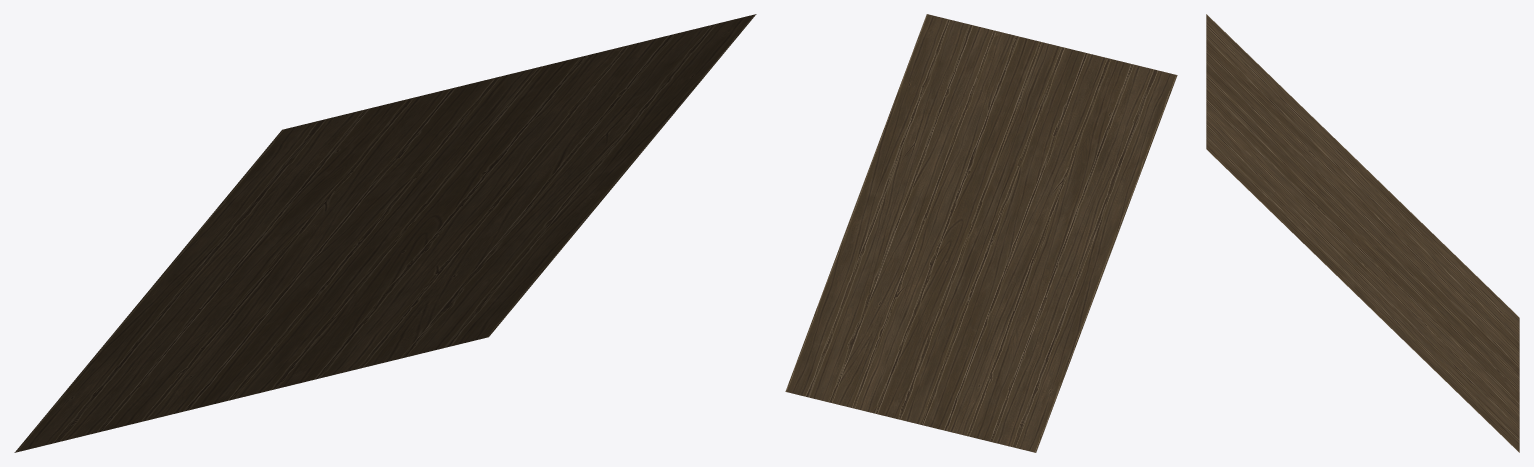
The model's file is SM_CelingPiece_00.fbx.
3 renders of one model, left to right at view 1: azimuth 30°, elevation 25°; view 2: azimuth 150°, elevation 25°; view 3: azimuth 270°, elevation 25°, orthographic. The views are drawn at different scales.
Parts seen in each view (by area): view 1: polySurface3604; view 2: polySurface3604; view 3: polySurface3604.
Boxes of the visible parts, x1,y1,x2,y2 form: polySurface3604: (14,14,756,452); polySurface3604: (785,14,1177,452); polySurface3604: (1206,14,1519,452).
Size of the model in its own units: 440 by 460 by 430.
Materials: 1 (1 with a texture image).
